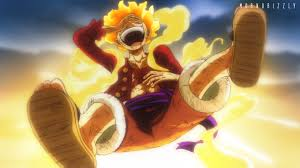Luffy: (105, 2, 153, 50)
